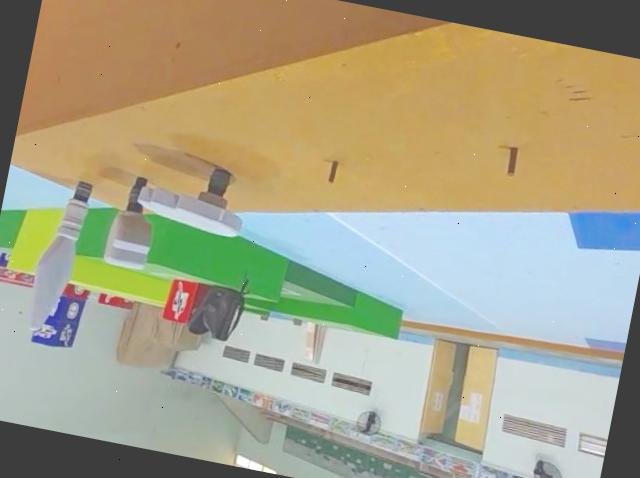Fist: (97, 172, 161, 274)
Hand: (132, 151, 250, 242)
Sph: (23, 169, 97, 333)
